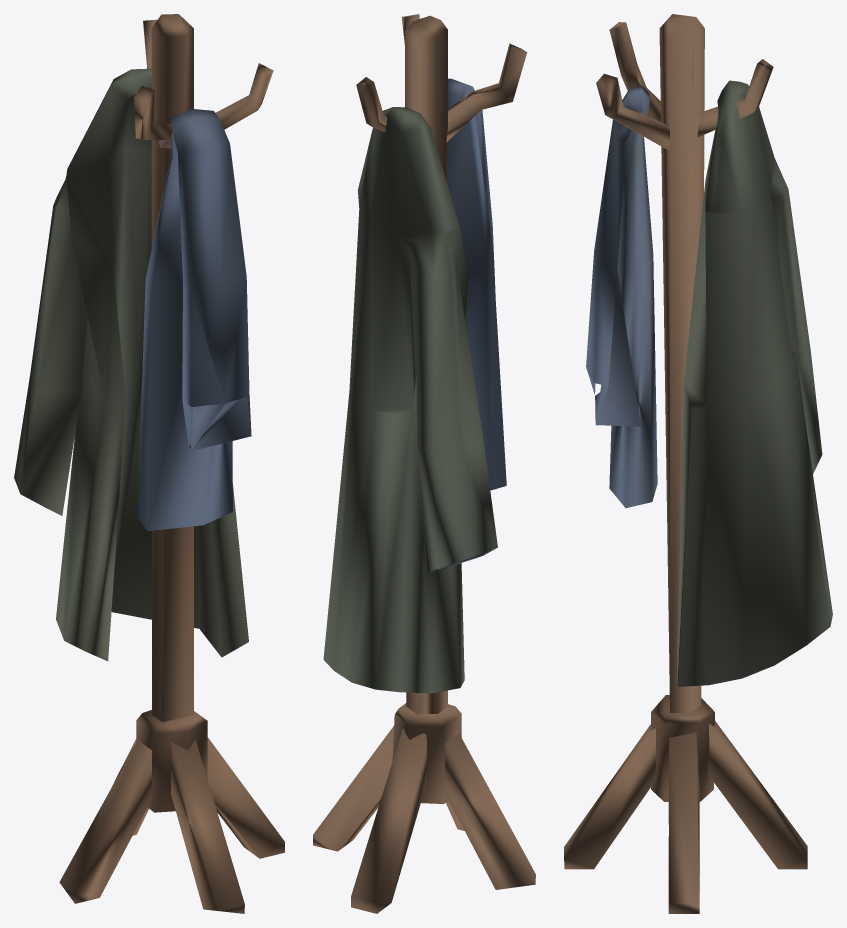
Rendered from coat_rack.fbx.
3 renders of one model, left to right at view 1: azimuth 30°, elevation 25°; view 2: azimuth 150°, elevation 25°; view 3: azimuth 270°, elevation 25°, orthographic.
Parts seen in each view (by area): view 1: Mesh_0; view 2: Mesh_0; view 3: Mesh_0.
Boxes of the visible parts, box(x1,y1,x2,y2) form: Mesh_0: box(14, 14, 284, 913); Mesh_0: box(313, 14, 535, 913); Mesh_0: box(564, 14, 832, 913).
Bounding box in the file's own units: 25.44 × 95.26 × 27.49.
1 material, 1 textured.
